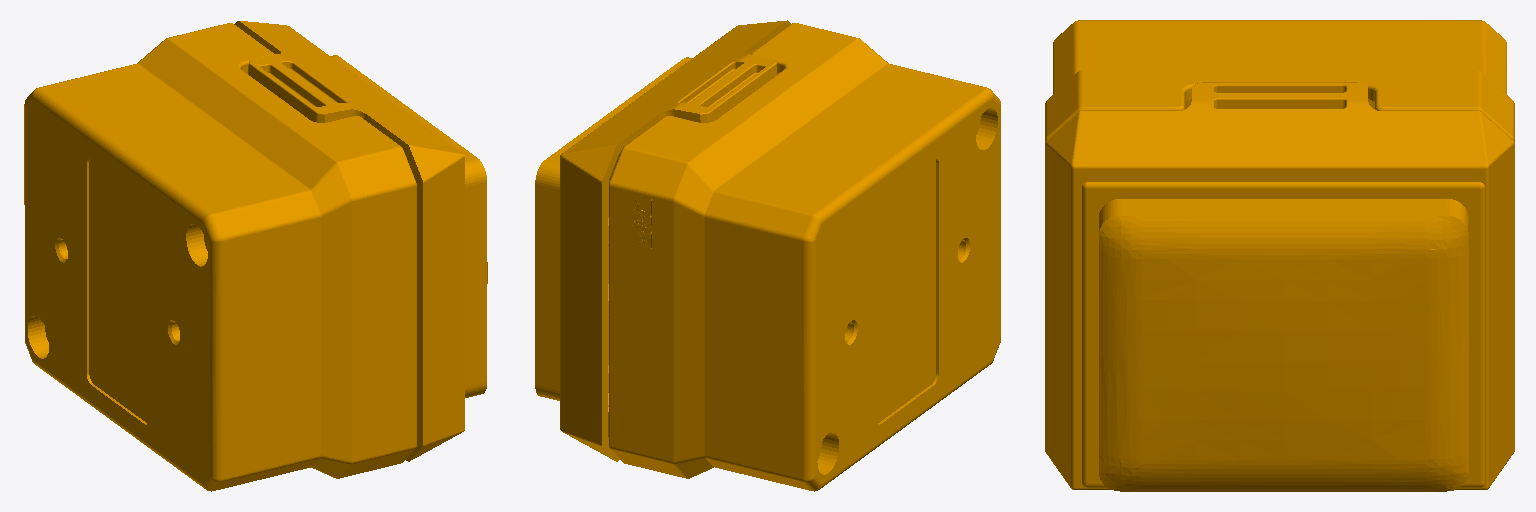
robot.urdf — gsmini:
<robot name="gsmini">
    <link concave="yes" name="gsmini">
        <visual>
            <origin rpy="0 0 -1.570796327" xyz="0 0 0"/>
            <geometry>
                <mesh filename="../meshes/collision/gsmini.stl"/>
            </geometry>
        </visual>
        <collision concave="yes">
            <origin rpy="0 0 -1.570796327" xyz="0 0 0"/>
            <geometry>
                <mesh filename="../meshes/collision/gsmini.stl"/>
            </geometry>
        </collision>
    </link>
</robot>

--- Facts derived from the render (not from the file) ---
3 views of the same robot in one strip: view 1: azimuth 30°, elevation 25°; view 2: azimuth 150°, elevation 25°; view 3: azimuth 270°, elevation 25° (orthographic).
Model gsmini with 1 links and 0 joints (none), rooted at gsmini, posed every joint at zero.
Visible links, largest first — view 1: gsmini; view 2: gsmini; view 3: gsmini.
Link boxes in pixels (bbox=[...]): gsmini: bbox=[24, 21, 487, 491]; gsmini: bbox=[535, 20, 1000, 491]; gsmini: bbox=[1045, 20, 1514, 491].
Bounding box of the posed robot: 0.0283 × 0.032 × 0.0289 m (x, y, z).
1 mesh visuals loaded from 1 distinct referenced files (1 binary STL).